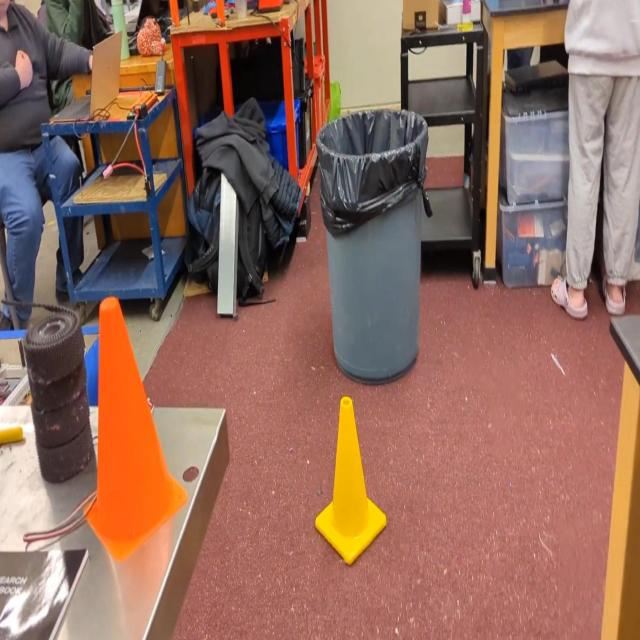frc_cone: (311, 397, 388, 562)
